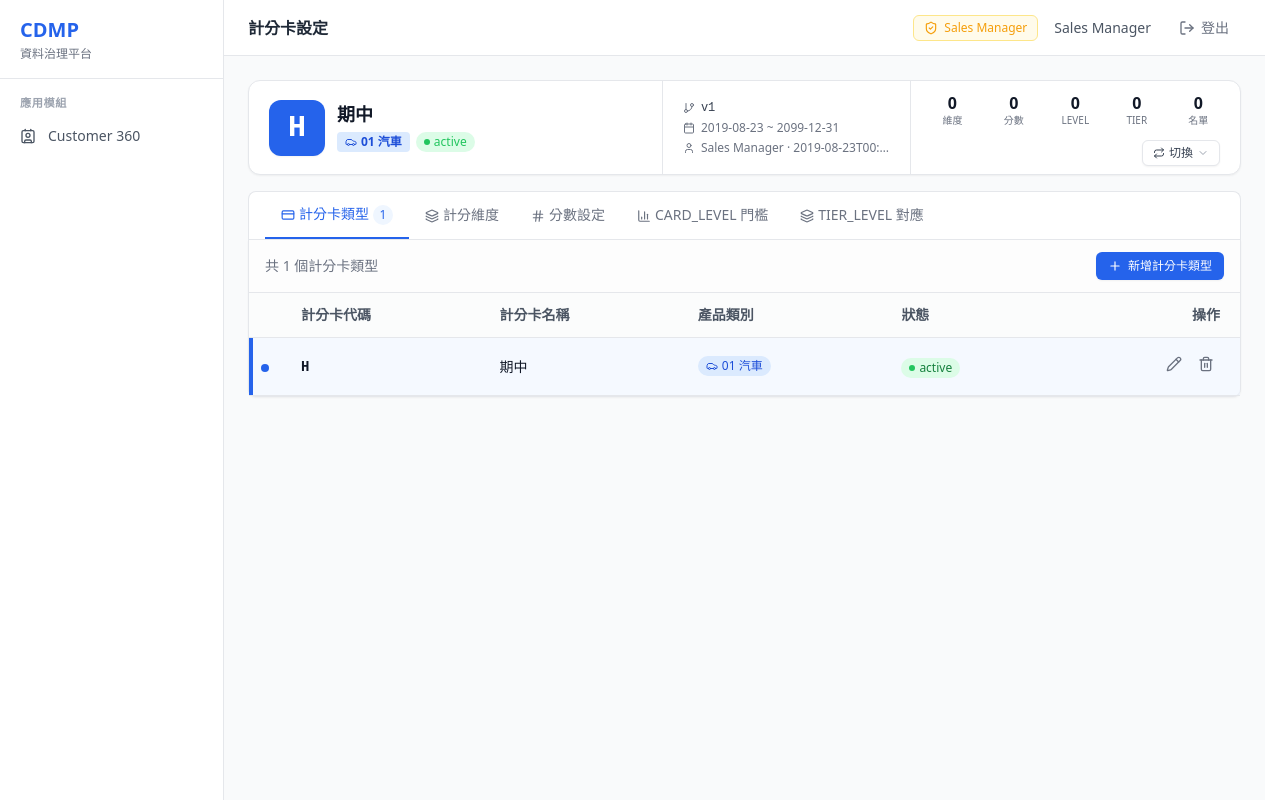
Test: ScoringConfigPage — F053 顯示 › TS-F053-013：維度列展開後顯示分數詳細表
This screenshot has width=1280, height=800.
Expected: the row with test id "card-type-row-H" is shown, x1=249 y1=338 x2=1240 y2=396
Click the button with test id "tab-dim". click: (462, 216)
box: x1=409 y1=192 x2=515 y2=238
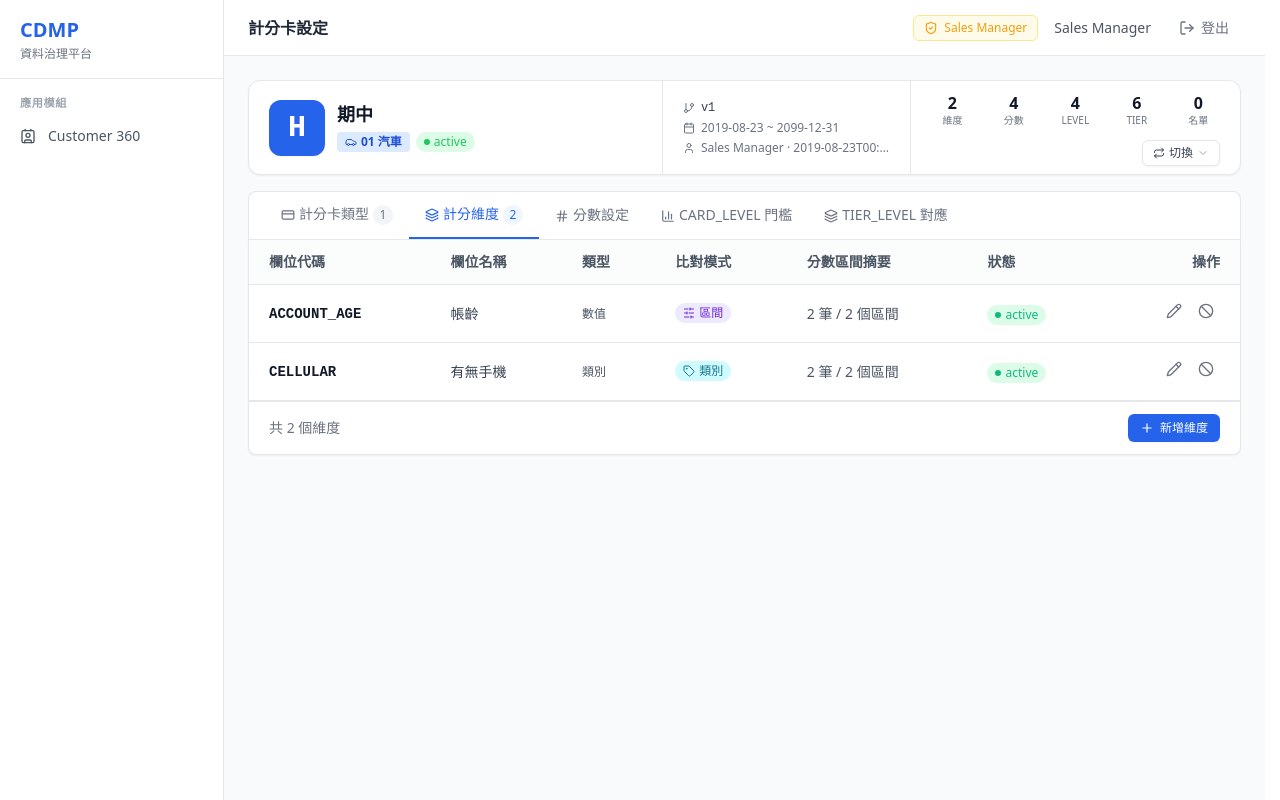
Now the button with test id "btn-add-dim" is shown, box x1=1128 y1=414 x2=1220 y2=442
Now the row with test id "dim-row-ACCOUNT_AGE" is shown
Click the row with test id "dim-row-ACCOUNT_AGE". click: (744, 314)
box: x1=249 y1=284 x2=1240 y2=342
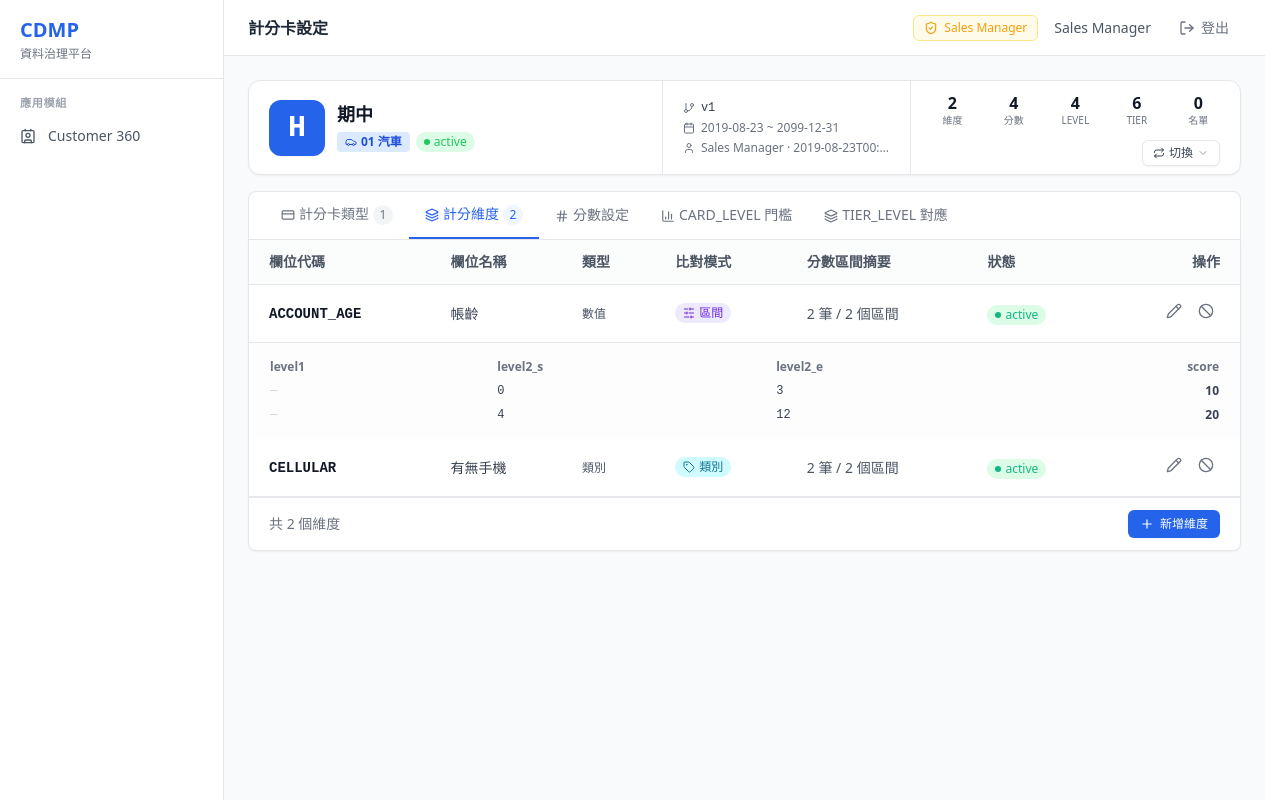
Now the row with test id "dim-detail-ACCOUNT_AGE" is shown, box x1=249 y1=342 x2=1240 y2=439
